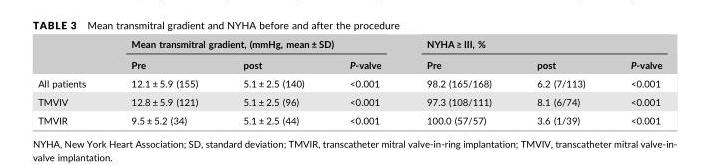table: (37, 37, 661, 125)
table column: (107, 37, 219, 125), (403, 37, 513, 125), (219, 37, 326, 125), (513, 37, 607, 125), (326, 37, 403, 125), (37, 37, 107, 125), (607, 37, 661, 125)
table column header: (37, 37, 661, 73)
table row: (37, 53, 661, 73), (37, 73, 661, 92), (37, 92, 661, 110), (37, 37, 661, 53), (37, 110, 661, 125)
table spanning cell: (107, 37, 403, 53), (403, 37, 661, 53)
